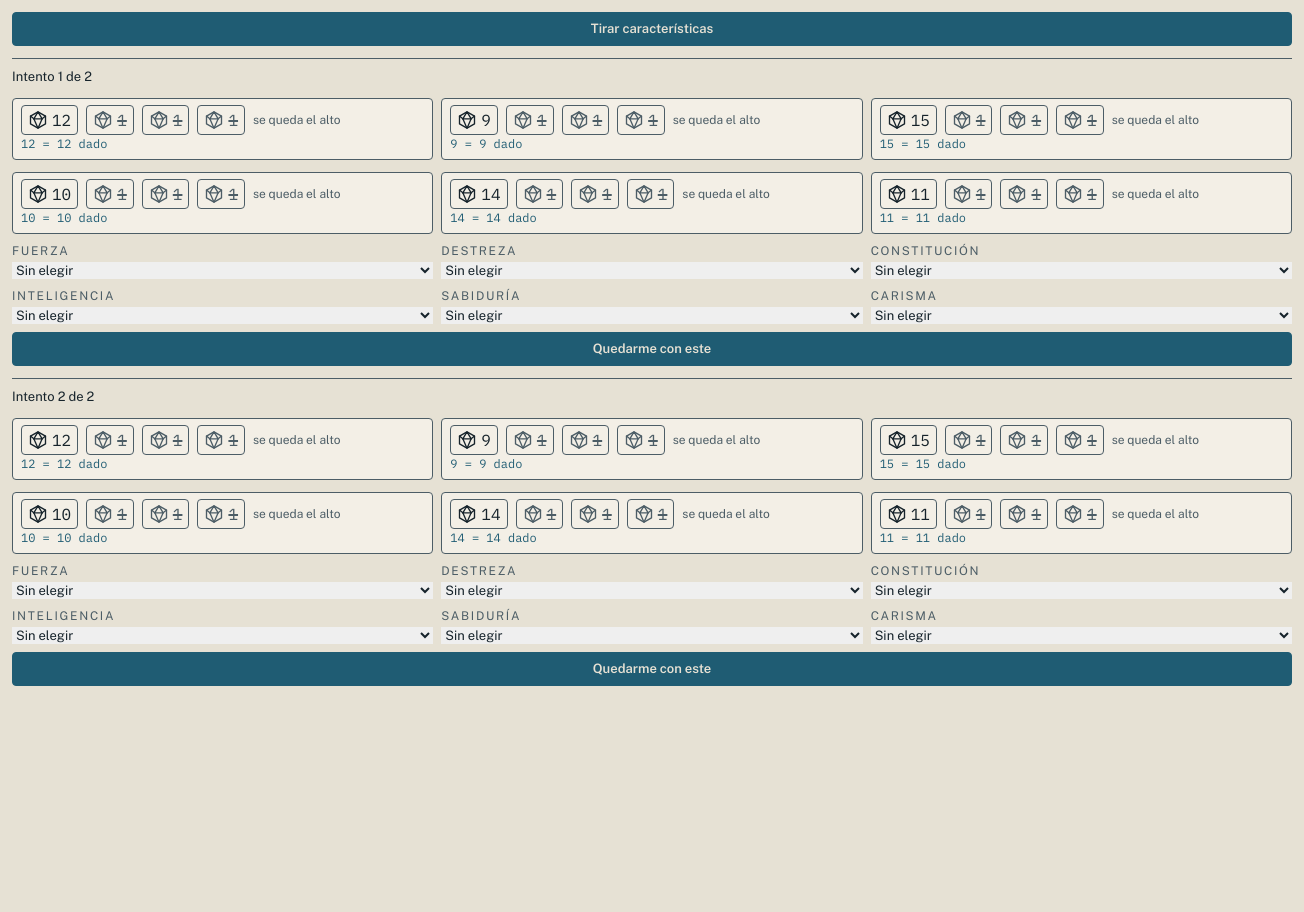
Test: AsignarCaracteristicas › DADOS: agotados los intentos, «Tirar características» escribe el error en línea sin pedir nada
The image size is (1304, 912).
Expected: the text "Intento 2 de 2" is shown, x1=12 y1=388 x2=94 y2=404
Click the button "Tirar características": (652, 29) x1=12 y1=12 x2=1292 y2=46
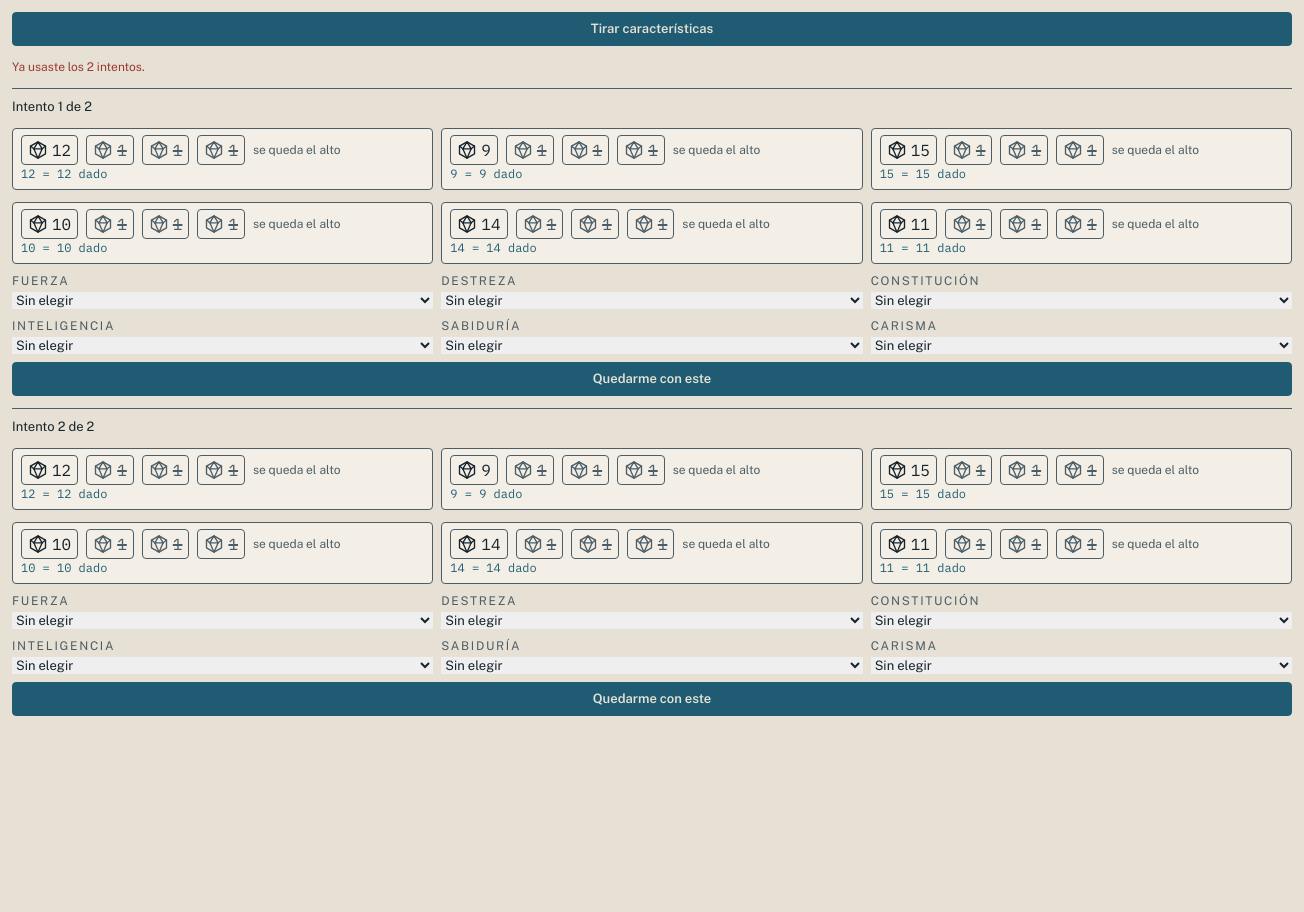
Expected: the text "Ya usaste los 2 intentos." is shown, x1=12 y1=60 x2=145 y2=74
